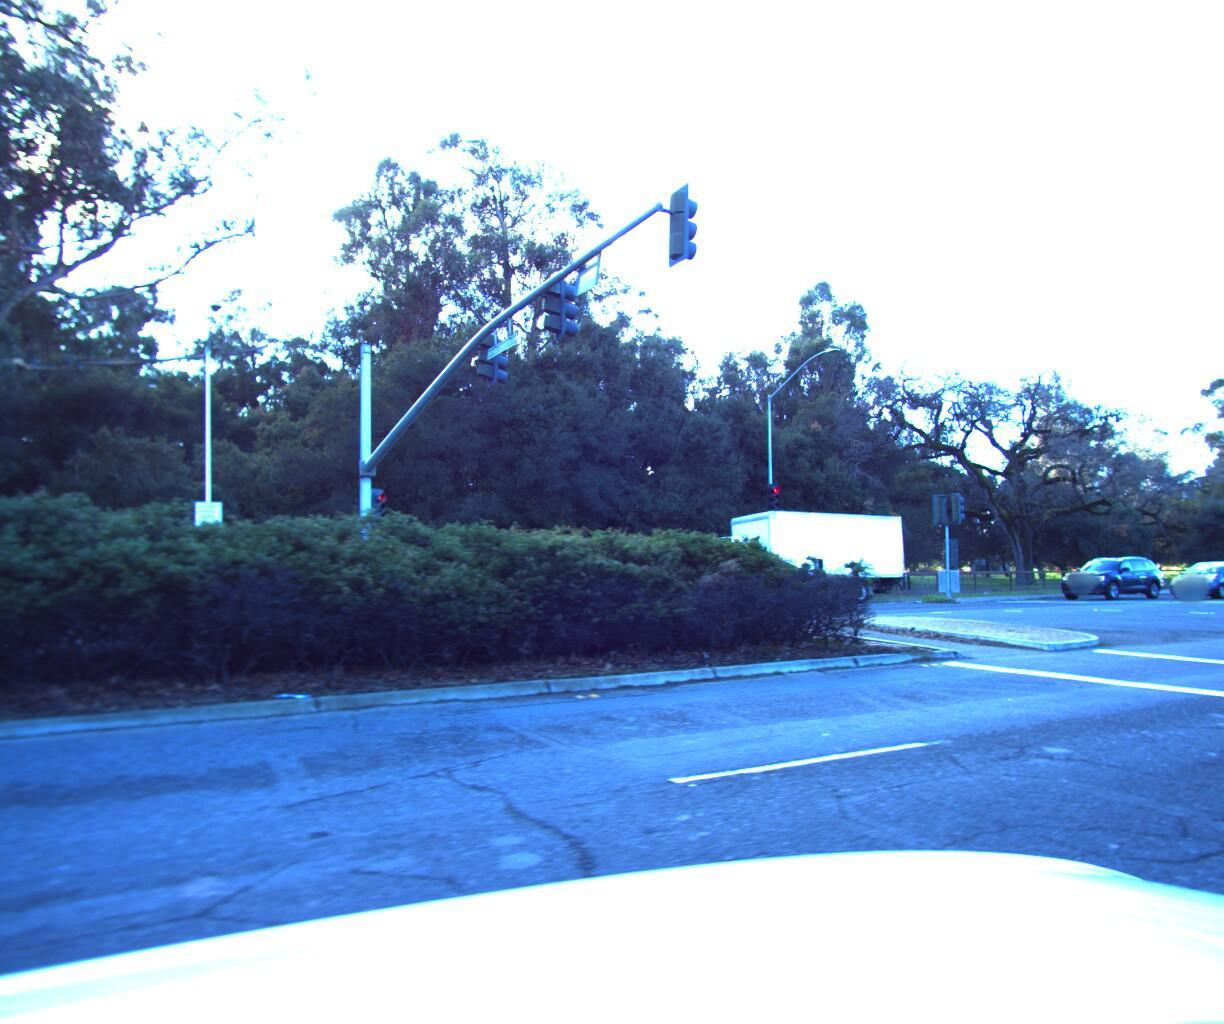car: (1047, 548, 1168, 596), (1157, 554, 1224, 594), (1209, 551, 1224, 596)
truck: (678, 499, 913, 606)
